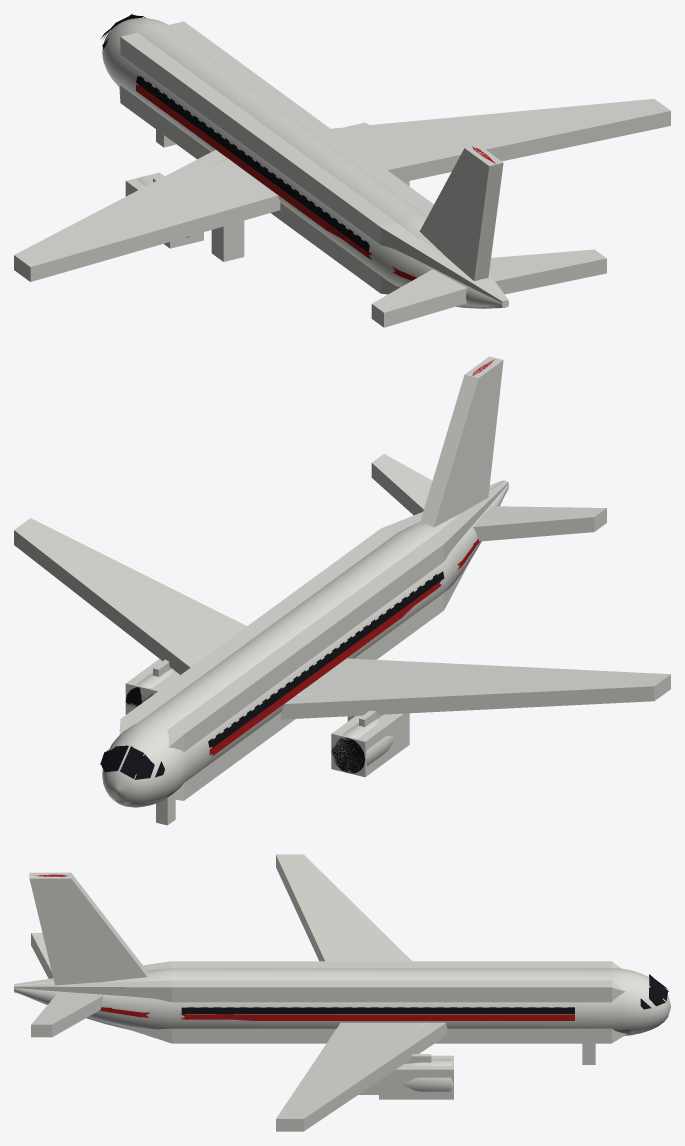
File: bne_ac_narrow_red.dae
The picture shows the model from 3 angles, top to bottom: view 1: azimuth 30°, elevation 25°; view 2: azimuth 150°, elevation 25°; view 3: azimuth 270°, elevation 25°; orthographic projection. The views are drawn at different scales.
Parts seen in each view (by area): view 1: Colmesh_bne_ac_narrow_red-1, bne_ac_narrow_red160, bne_ac_narrow_red16; view 2: Colmesh_bne_ac_narrow_red-1, bne_ac_narrow_red160, bne_ac_narrow_red16; view 3: Colmesh_bne_ac_narrow_red-1, bne_ac_narrow_red160, bne_ac_narrow_red16.
Boxes of the visible parts, x1,y1,x2,y2 form: Colmesh_bne_ac_narrow_red-1: (14, 21, 670, 327); bne_ac_narrow_red160: (14, 15, 508, 318); bne_ac_narrow_red16: (101, 14, 507, 307); Colmesh_bne_ac_narrow_red-1: (14, 356, 670, 825); bne_ac_narrow_red160: (101, 359, 669, 807); bne_ac_narrow_red16: (100, 482, 503, 790); Colmesh_bne_ac_narrow_red-1: (14, 854, 626, 1131); bne_ac_narrow_red160: (14, 874, 670, 1126); bne_ac_narrow_red16: (16, 972, 668, 1033).
Bounding box in the file's own units: 35.8 × 37.6 × 11.8.
